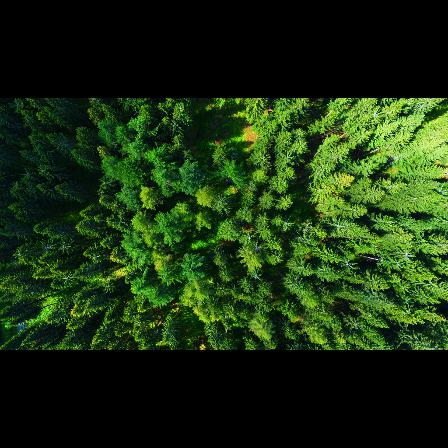Sick: (61, 270, 75, 287), (38, 240, 53, 255)
